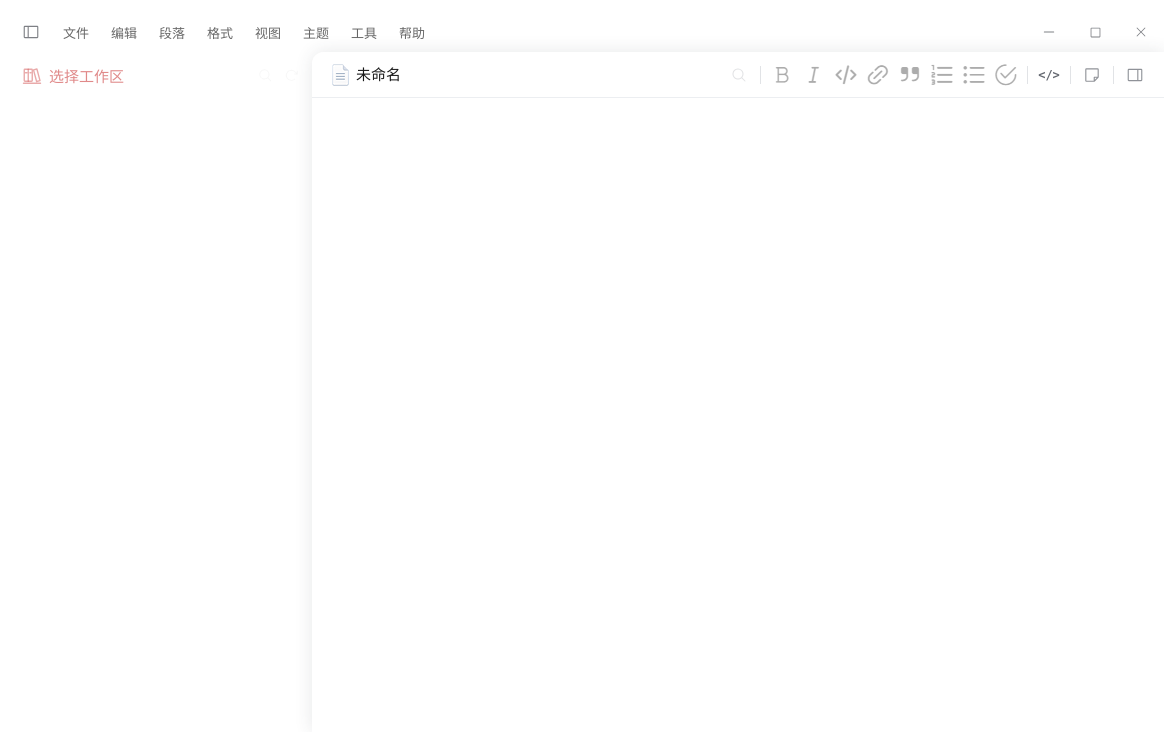
Test: searches document names and Markdown content across nested folders
Click the button "选择工作区" at [132, 75], box [12, 52, 253, 98]
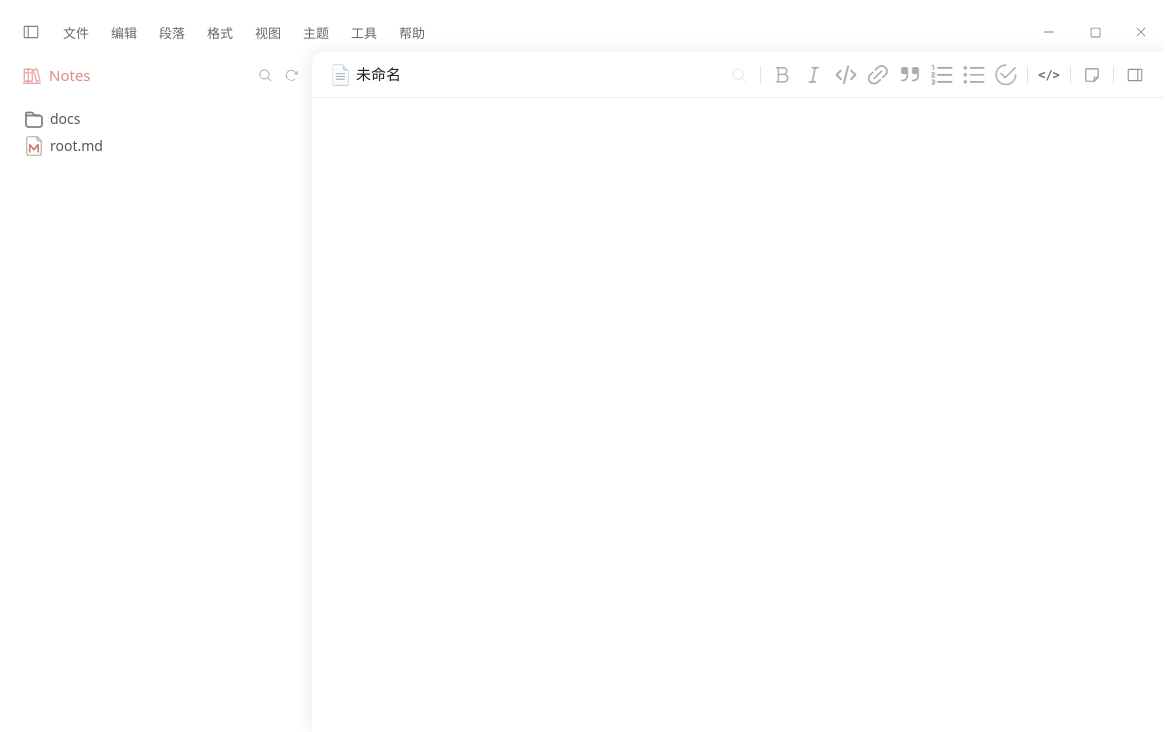
Click the button named "搜索工作区" at [266, 75], box [253, 62, 278, 88]
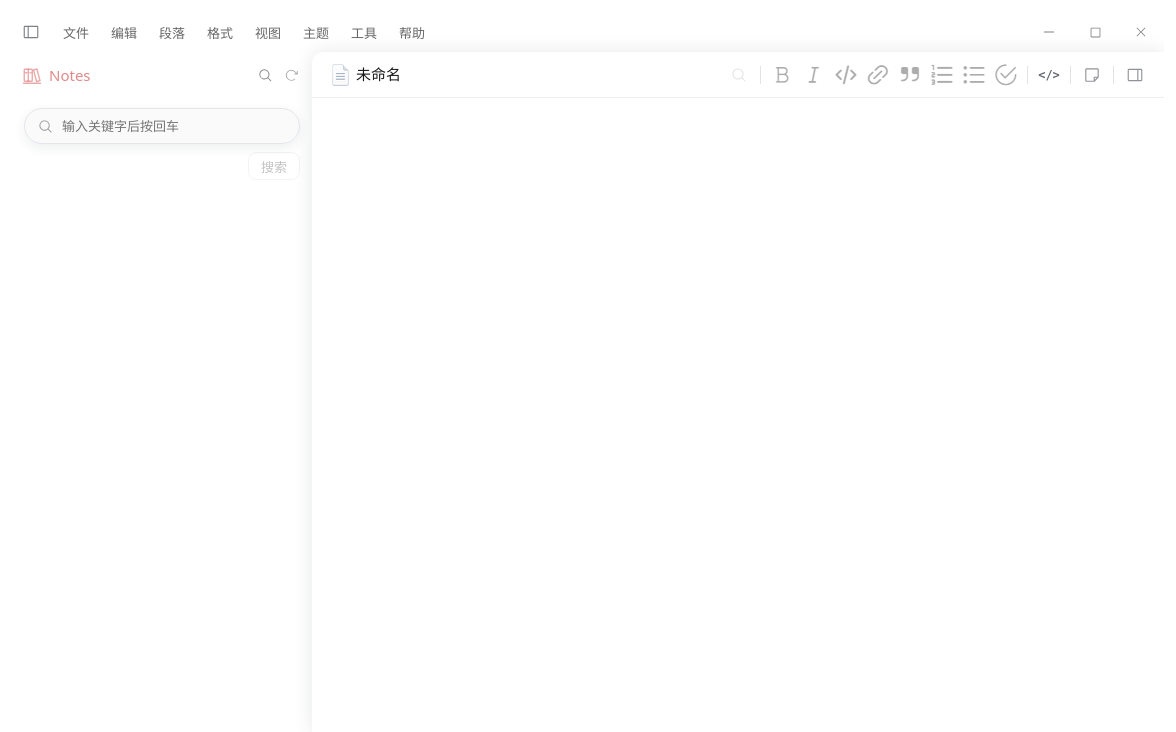
Type "keyword" into the search field named "搜索工作区" at [172, 126], box [53, 112, 292, 140]
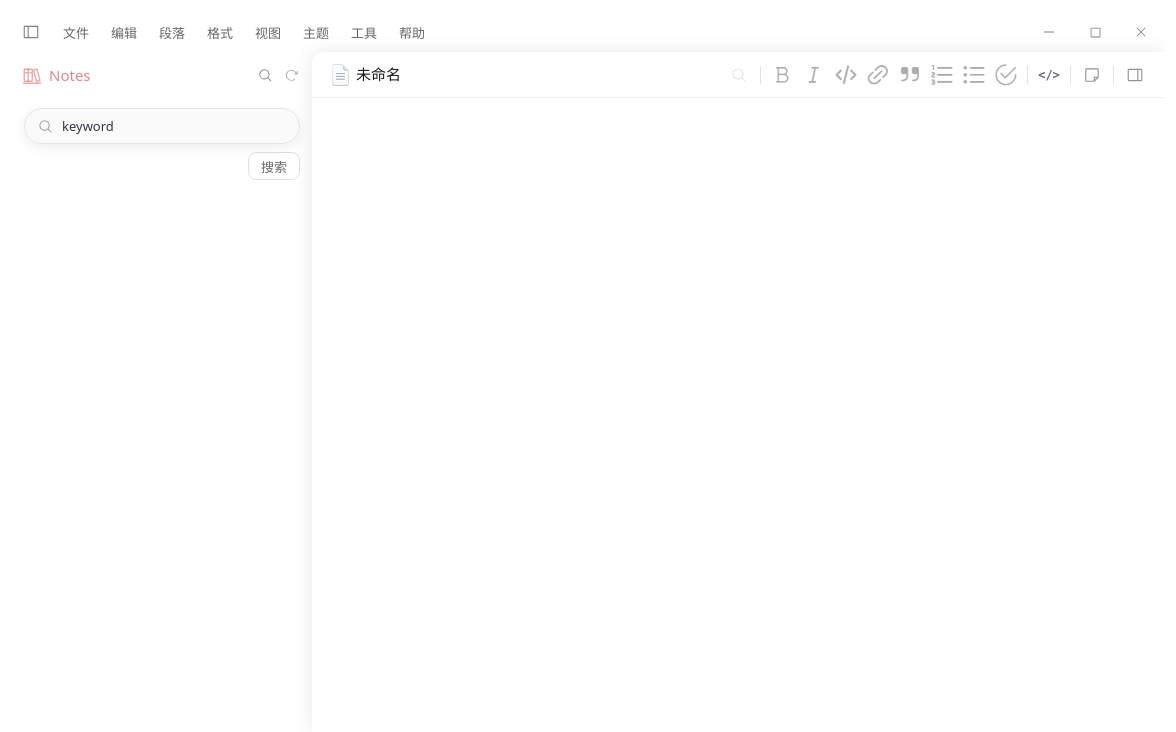
Press Enter
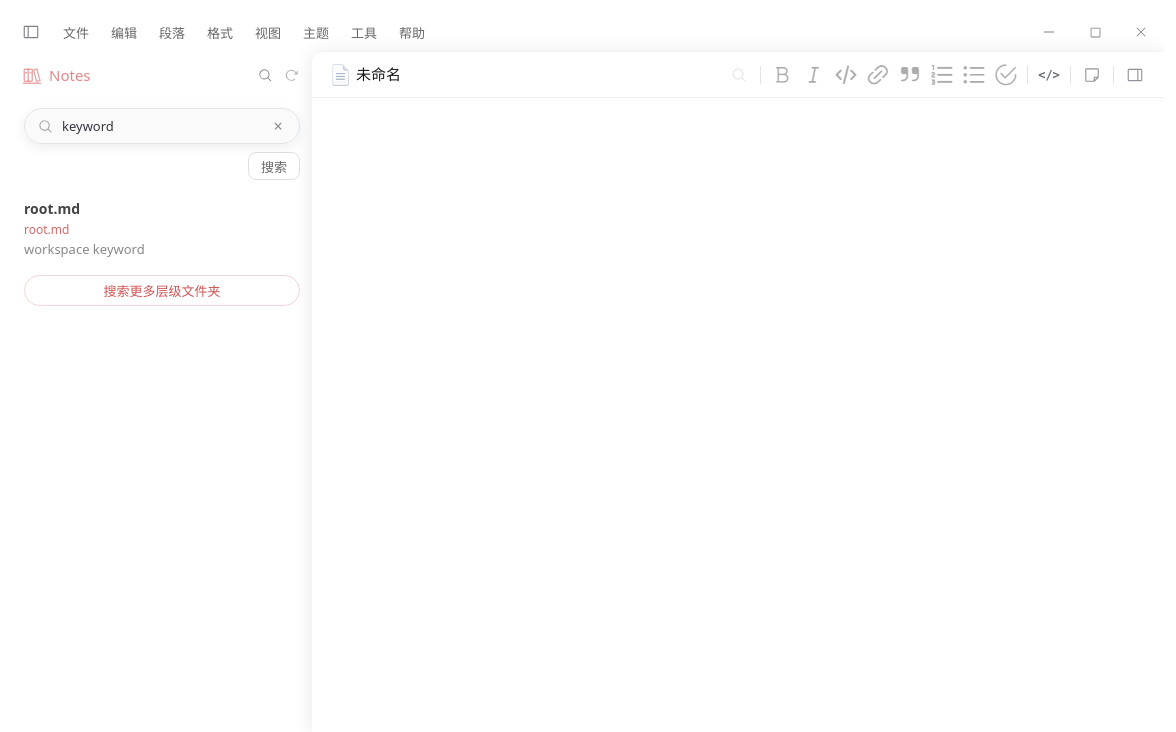
Result: the button "root.md root.md workspace keyword" is shown at [12, 192, 312, 266]
Click the button "搜索更多层级文件夹" at [162, 290], box [24, 274, 300, 306]
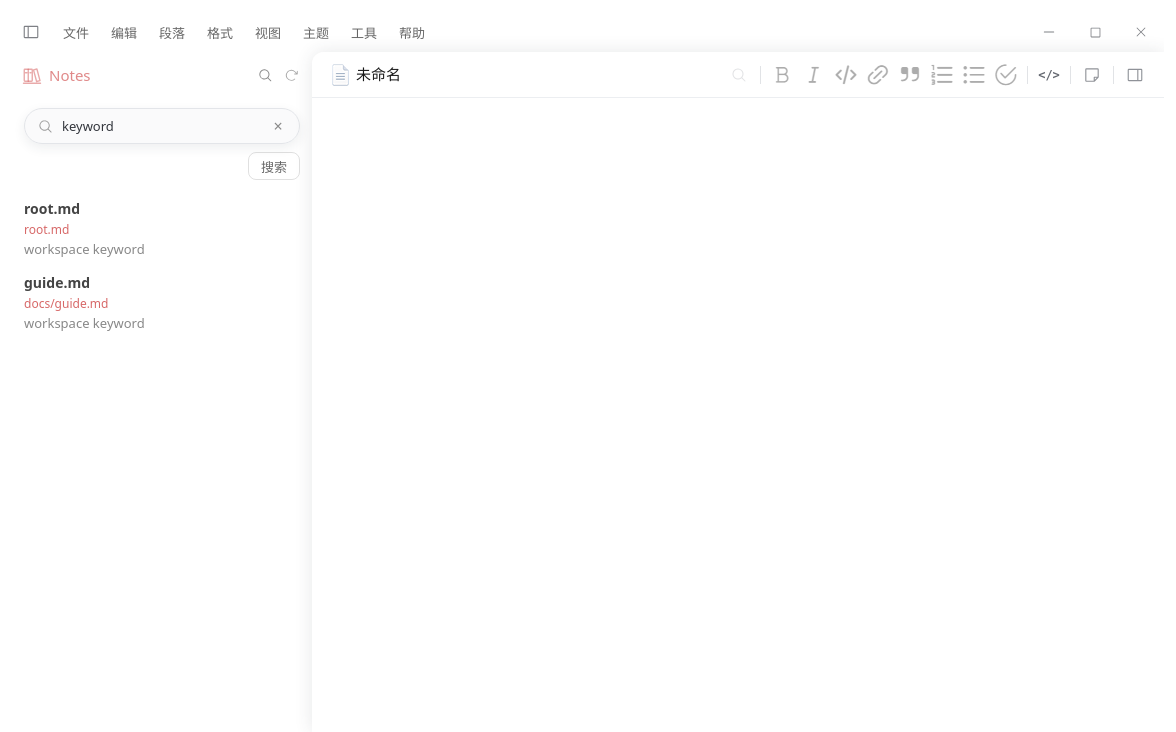
Result: the button "guide.md docs/guide.md workspace keyword" is shown at [12, 266, 312, 339]
Click the button named "取消搜索" at [278, 126], box [264, 114, 292, 138]
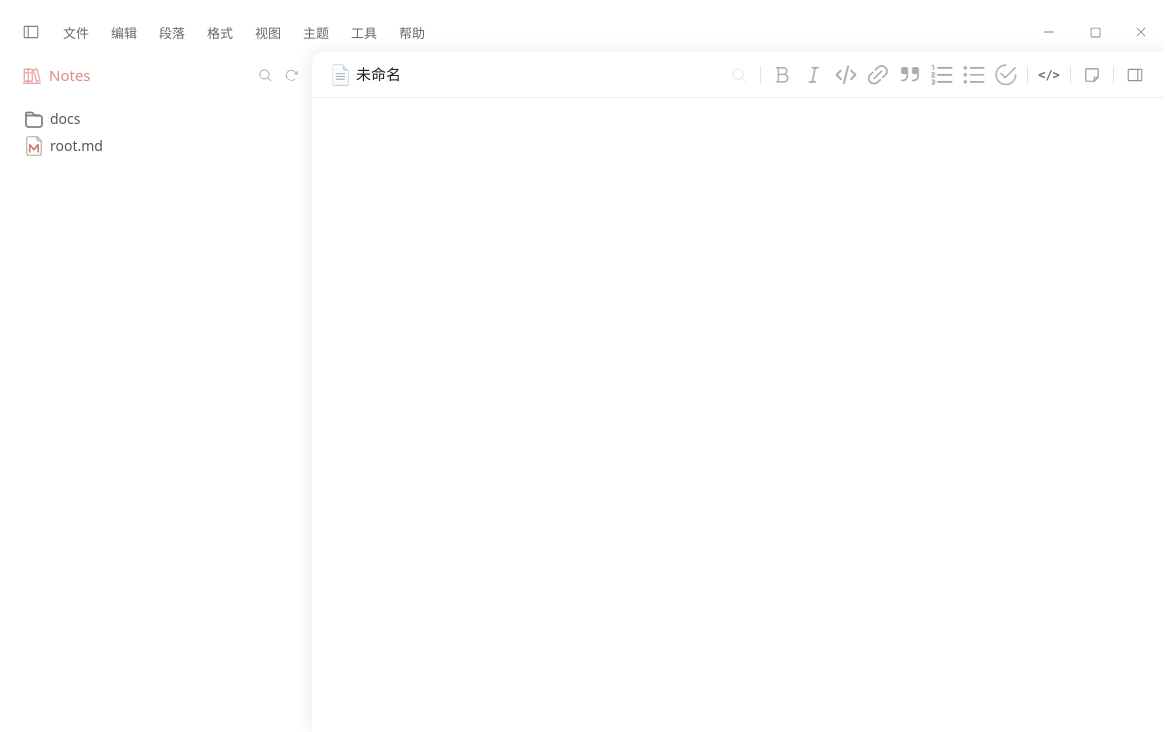
Result: the button "docs/guide.md" is gone
Result: the element with class "workspace-tree-context" is shown at [12, 105, 312, 159]
